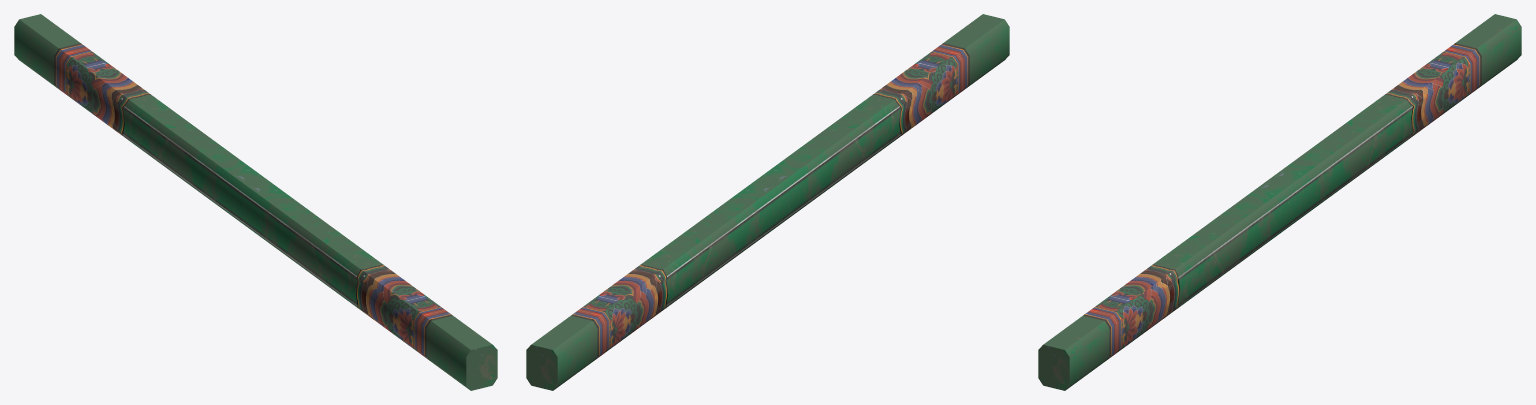
The model's file is SM_Lintel03c.fbx.
The picture shows the model from 3 angles, left to right: view 1: azimuth 30°, elevation 25°; view 2: azimuth 150°, elevation 25°; view 3: azimuth 330°, elevation 25°; orthographic projection.
Visible parts, largest first — view 1: SM_Lintel03c; view 2: SM_Lintel03c; view 3: SM_Lintel03c.
Boxes of the visible parts, x1=… form: SM_Lintel03c: x1=14, y1=14, x2=497, y2=390; SM_Lintel03c: x1=526, y1=14, x2=1009, y2=390; SM_Lintel03c: x1=1038, y1=14, x2=1521, y2=390.
Bounding box in the file's own units: 16 × 400 × 20.
1 material, 1 textured.
